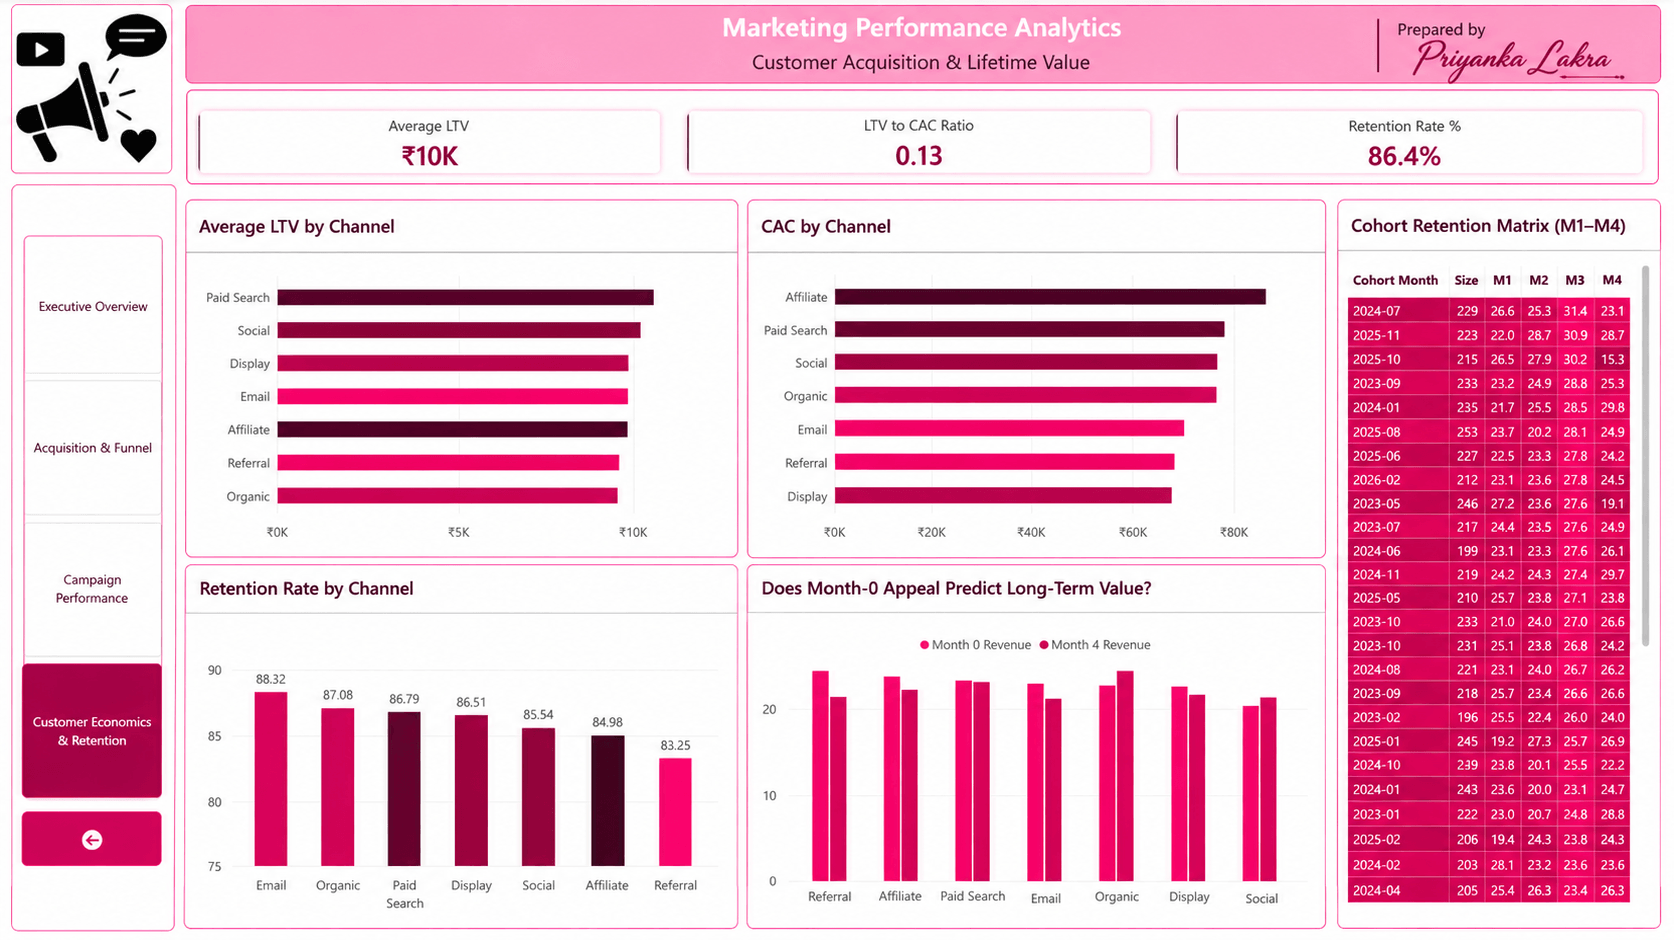

The page's visual inventory and layout, read from the dashboard file:
{"tool":"powerbi","page":{"name":"Customer Economics & Retention","canvas":[1920,1080],"ordinal":3},"visuals":[{"type":"cardVisual","title":"Key Performance Indicators","fields":{"Data":["_Measures.Average LTV","_Measures.LTV to CAC Ratio","_Measures.Retention Rate %"]},"box":[217.2,62.6,1673,150.9],"z":0},{"type":"shape","box":[20.2,219.1,185.9,854],"z":0,"group":"g1"},{"type":"clusteredBarChart","title":"Average LTV by Channel","fields":{"Category":["marketing_analytics vw_channel_performance.channel_name"],"Y":["_Measures.Average LTV"]},"box":[216.7,239.6,631.2,406.2],"z":1000},{"type":"columnChart","title":"Retention Rate by Channel","fields":{"Category":["marketing_analytics vw_channel_performance.channel_name"],"Y":["Sum(marketing_analytics vw_channel_performance.retention_rate_pct)"]},"box":[216.7,652.1,629.2,412.5],"z":2000},{"type":"clusteredBarChart","title":"CAC by Channel","fields":{"Category":["marketing_analytics vw_channel_performance.channel_name"],"Y":["_Measures.CAC"]},"box":[858.3,237.5,662.5,408.3],"z":3000},{"type":"pivotTable","title":"Cohort Retention Matrix (M1–M4)","fields":{"Values":["Sum(marketing_analytics vw_cohort_retention.cohort_size)","Avg(marketing_analytics vw_cohort_retention.m1_retention_pct)","Avg(marketing_analytics vw_cohort_retention.m2_retention_pct)","Avg(marketing_analytics vw_cohort_retention.m3_retention_pct)","Avg(marketing_analytics vw_cohort_retention.m4_retention_pct)"],"Rows":["marketing_analytics vw_cohort_retention.cohort_month"]},"box":[1535.4,237.5,354.2,827.1],"z":4000},{"type":"clusteredColumnChart","title":"Month-1 vs Month-4 Retention % by Channel","fields":{"Category":["marketing_analytics vw_channel_cohort_performance.channel_name"],"Y":["Avg(marketing_analytics vw_channel_cohort_performance.m1_retention_pct)","Avg(marketing_analytics vw_channel_cohort_performance.m4_retention_pct)"]},"box":[858.3,652.1,662.5,412.5],"z":5000},{"type":"group","id":"g1","title":"Group 1","box":[16.1,6.8,190,1066.3],"z":6000},{"type":"pageNavigator","box":[33.1,278,156.4,646],"z":6000,"group":"g1"},{"type":"textbox","title":"Marketing Performance Analytics","box":[217.2,22.1,1678.5,75.5],"z":7000},{"type":"actionButton","box":[33.1,940.6,156.4,68.1],"z":7000,"group":"g1"},{"type":"image","box":[16.1,6.8,184.1,198.8],"z":8000,"group":"g1"},{"type":"textbox","title":"Marketing Performance Analytics","box":[217.2,7.4,1678.5,82.8],"z":8000}]}

Visuals, with their boxes in screenshot pixels (x1, y1, x2, y2), scaled from the page's 1920x1080 canvas onto the 1674x940 screenshot:
"Key Performance Indicators" cardVisual: detection(189, 54, 1648, 186)
shape: detection(18, 191, 180, 934)
"Average LTV by Channel" clusteredBarChart: detection(189, 209, 739, 562)
"Retention Rate by Channel" columnChart: detection(189, 568, 738, 927)
"CAC by Channel" clusteredBarChart: detection(748, 207, 1326, 562)
"Cohort Retention Matrix (M1–M4)" pivotTable: detection(1339, 207, 1647, 927)
"Month-1 vs Month-4 Retention % by Channel" clusteredColumnChart: detection(748, 568, 1326, 927)
"Group 1" group: detection(14, 6, 180, 934)
pageNavigator: detection(29, 242, 165, 804)
"Marketing Performance Analytics" textbox: detection(189, 19, 1653, 85)
actionButton: detection(29, 819, 165, 878)
image: detection(14, 6, 175, 179)
"Marketing Performance Analytics" textbox: detection(189, 6, 1653, 79)
